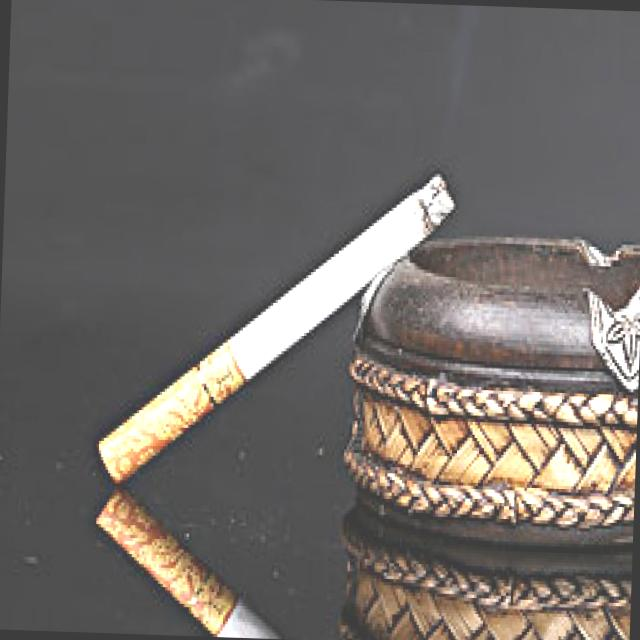cigarette: (96, 156, 462, 494)
